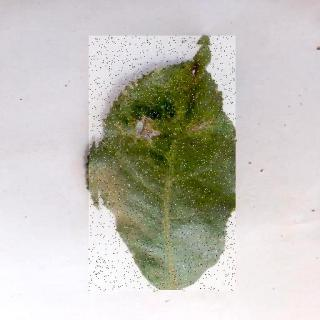Algal Leaf: (90, 37, 237, 293)
